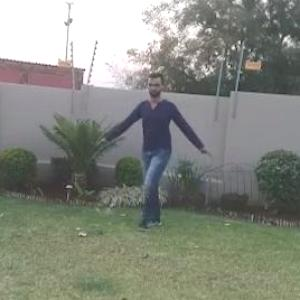land: (104, 76, 213, 220)
